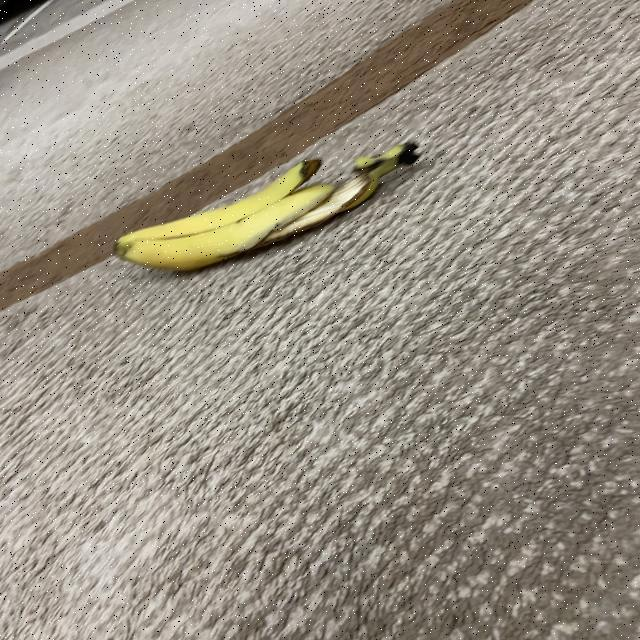banana-peel: (112, 138, 420, 273)
